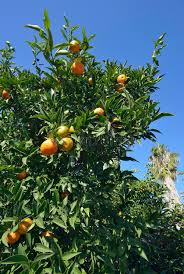orange: (38, 137, 57, 156), (69, 64, 88, 75), (60, 138, 74, 152)
